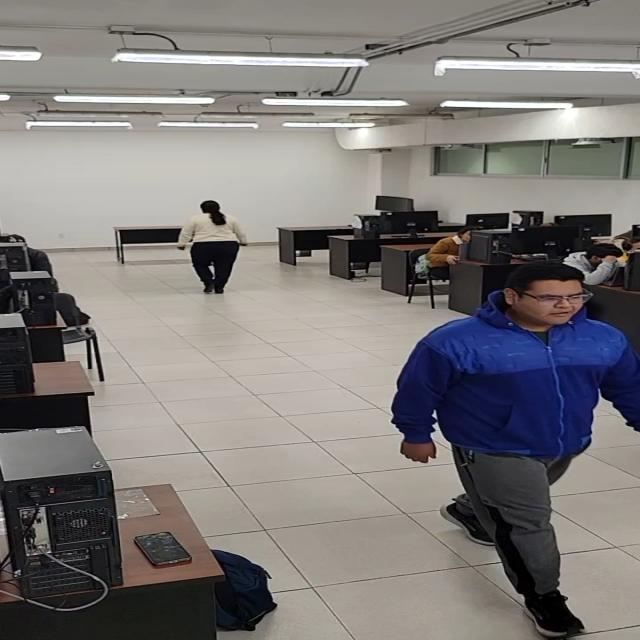Persona: (391, 259, 640, 640), (174, 199, 248, 295)
